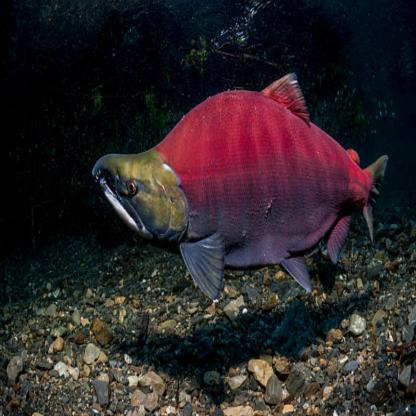sockeye: (96, 66, 385, 284)
